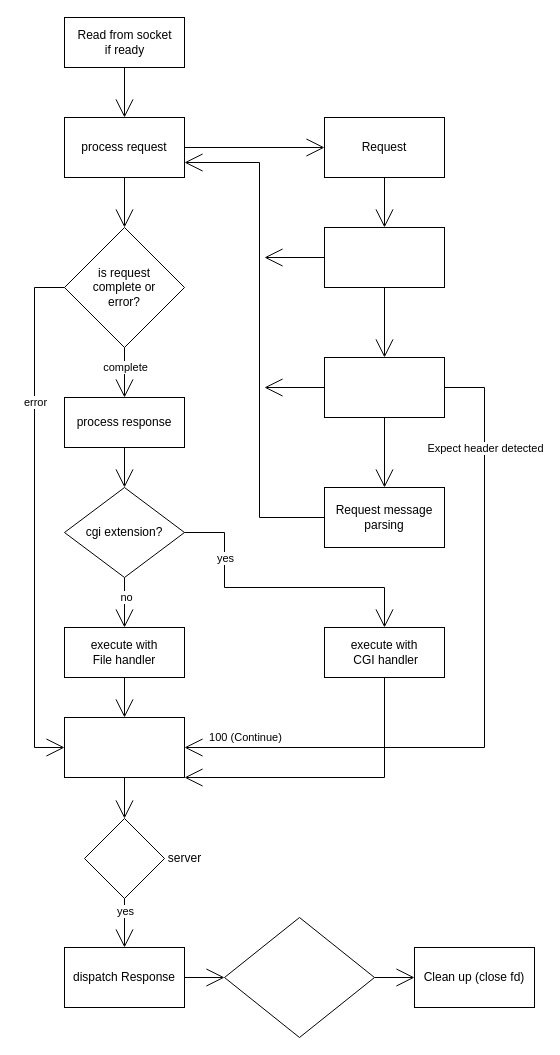
Image size: 560x1055. Some labels were removed from this diagram. The shapes that lost their labels are listed below. From the top down, each one's box as (x1, y1, x2, y2) in pixels, then its label:
(324, 226, 444, 288): Request parsing
(324, 356, 444, 418): Request validation
(64, 716, 184, 778): form Response
(84, 818, 164, 898): ready to write?
(224, 916, 374, 1038): connection closed or response done?
